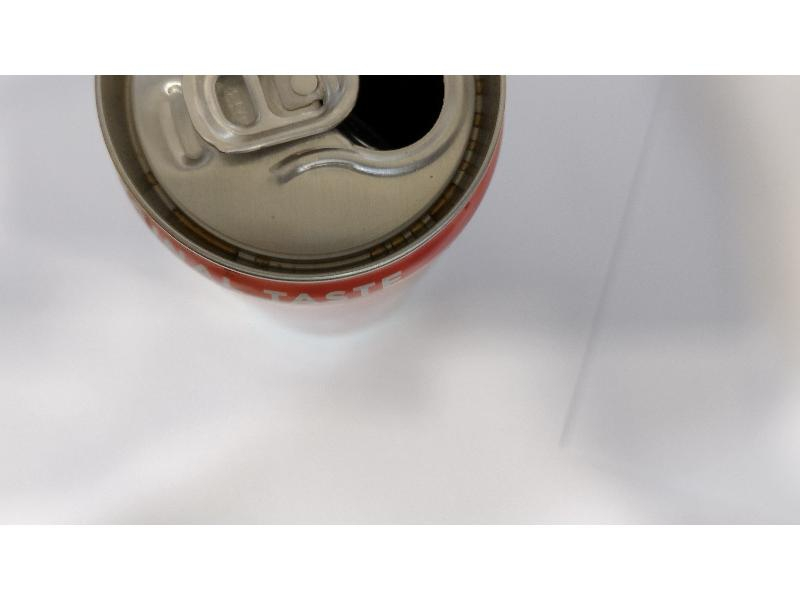can: (97, 78, 511, 340)
